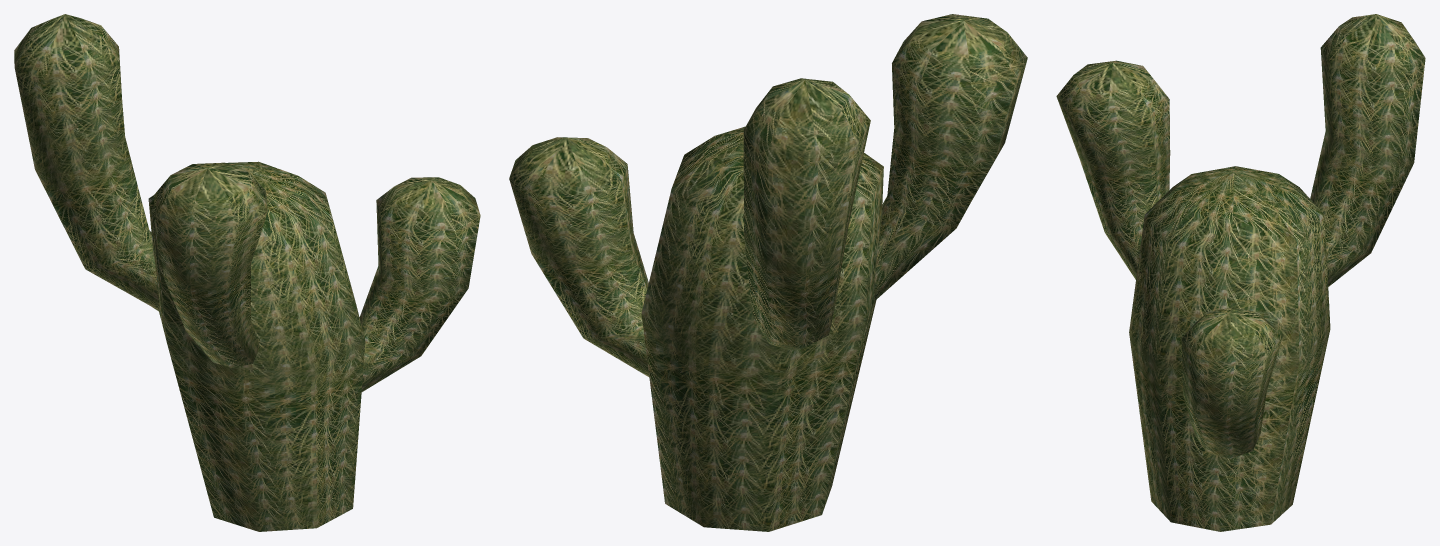
File: furni_0200945.FBX
3 renders of one model, left to right at view 1: azimuth 30°, elevation 25°; view 2: azimuth 150°, elevation 25°; view 3: azimuth 270°, elevation 25°, orthographic. The views are drawn at different scales.
Parts seen in each view (by area): view 1: furni_0200945; view 2: furni_0200945; view 3: furni_0200945.
Boxes of the visible parts, x1=… form: furni_0200945: x1=14, y1=14, x2=480, y2=531; furni_0200945: x1=509, y1=14, x2=1027, y2=531; furni_0200945: x1=1056, y1=14, x2=1425, y2=531.
Bounding box in the file's own units: 237 × 273 × 213.
1 material, 1 textured.
